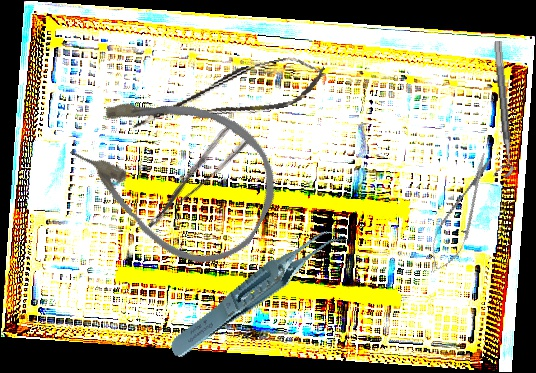Cannula: (51, 59, 298, 285)
Dressing Forceps: (132, 119, 254, 231)
Fixation Ring: (481, 40, 515, 179)
Micro Scissor: (123, 50, 331, 140), (422, 148, 503, 276)
Tissue Forceps: (152, 223, 367, 362)
